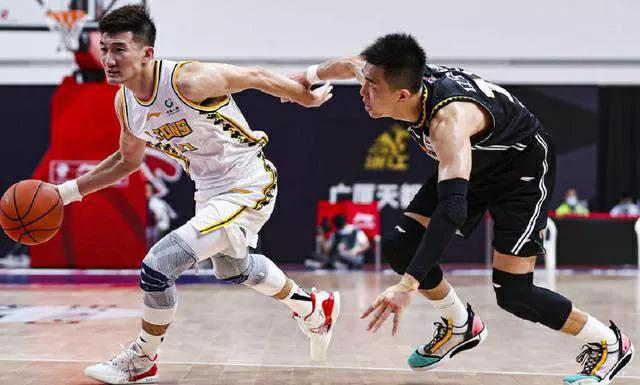ball: (1, 178, 62, 246)
